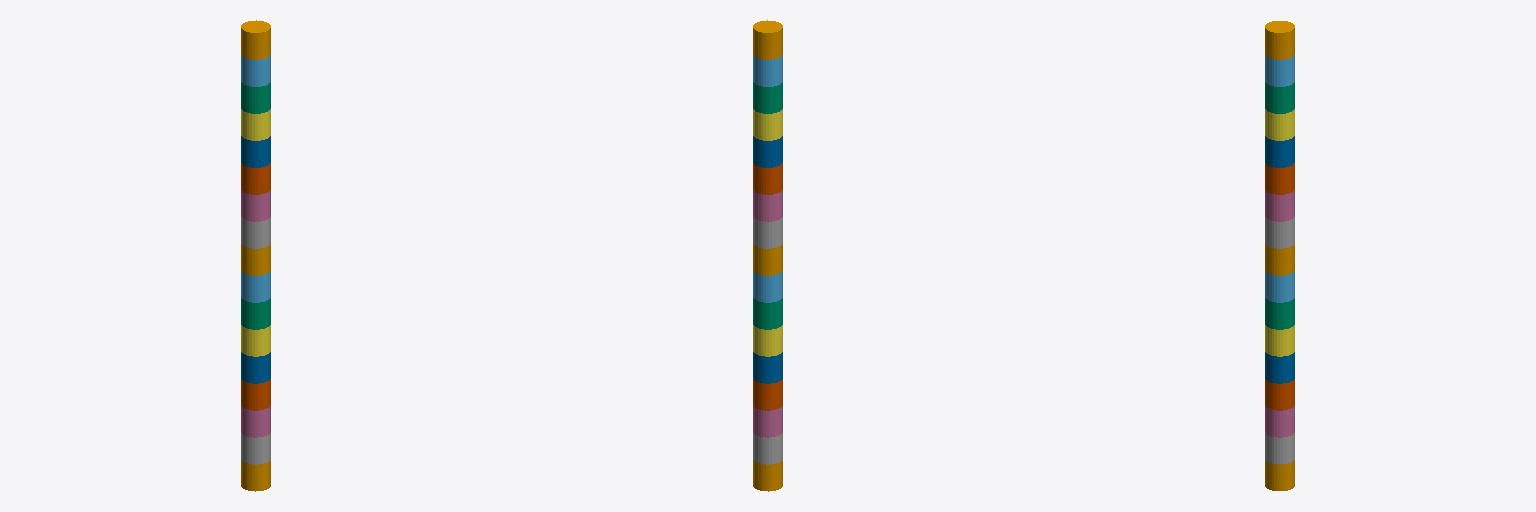
robot.urdf — snake:
<?xml version="1.0" ?>
<!-- =================================================================================== -->
<!-- |    This document was autogenerated by xacro from snake.xacro                    | -->
<!-- |    EDITING THIS FILE BY HAND IS NOT RECOMMENDED                                 | -->
<!-- =================================================================================== -->
<robot name="snake" xmlns:xacro="http://www.ros.org/wiki/xacro">
  <!-- snake properties -->
  <!-- 1=simple_joint -1=springy_joint -->
  <!-- Spring joints are joints with a center springy link-->
  <!-- Spring joint revolute -->
  <!-- Spring joint spherical -->
  <!-- Simple joints are simple, lightly damped and frictioned joints-->
  <!-- -->
  <!-- Simple joint spherical -->
  <link name="module_15">
    <collision>
      <geometry>
        <cylinder length="0.05" radius="0.025"/>
      </geometry>
      <origin rpy="0 0 0" xyz="0 0 -0.025"/>
    </collision>
    <visual>
      <geometry>
        <cylinder length="0.05" radius="0.025"/>
      </geometry>
      <origin rpy="0 0 0" xyz="0 0 -0.025"/>
    </visual>
    <inertial>
      <origin rpy="0 0 0" xyz="0 0 -0.025"/>
      <mass value="0.159"/>
      <inertia ixx="0.00006" ixy="0" ixz="0" iyy="0.00006" iyz="0" izz="0.00006"/>
    </inertial>
  </link>
  <!-- Simple joint -->
  <joint name="joint_15_14.0" type="revolute">
    <limit effort="1000.0" lower="-1.57075" upper="1.57075" velocity="10"/>
    <dynamics damping="0.001" friction="0.2"/>
    <parent link="module_15"/>
    <child link="module_14.0"/>
    <origin xyz="0 0 -0.05"/>
    <axis xyz="0 1 0"/>
  </joint>
  <link name="module_14.0">
    <collision>
      <geometry>
        <cylinder length="0.05" radius="0.025"/>
      </geometry>
      <origin rpy="0 0 0" xyz="0 0 -0.025"/>
    </collision>
    <visual>
      <geometry>
        <cylinder length="0.05" radius="0.025"/>
      </geometry>
      <origin rpy="0 0 0" xyz="0 0 -0.025"/>
    </visual>
    <inertial>
      <origin rpy="0 0 0" xyz="0 0 -0.025"/>
      <mass value="0.159"/>
      <inertia ixx="0.00006" ixy="0" ixz="0" iyy="0.00006" iyz="0" izz="0.00006"/>
    </inertial>
  </link>
  <!-- Simple joint -->
  <joint name="joint_14.0_13.0" type="revolute">
    <limit effort="1000.0" lower="-1.57075" upper="1.57075" velocity="10"/>
    <dynamics damping="0.001" friction="0.2"/>
    <parent link="module_14.0"/>
    <child link="module_13.0"/>
    <origin xyz="0 0 -0.05"/>
    <axis xyz="1 0 0"/>
  </joint>
  <link name="module_13.0">
    <collision>
      <geometry>
        <cylinder length="0.05" radius="0.025"/>
      </geometry>
      <origin rpy="0 0 0" xyz="0 0 -0.025"/>
    </collision>
    <visual>
      <geometry>
        <cylinder length="0.05" radius="0.025"/>
      </geometry>
      <origin rpy="0 0 0" xyz="0 0 -0.025"/>
    </visual>
    <inertial>
      <origin rpy="0 0 0" xyz="0 0 -0.025"/>
      <mass value="0.159"/>
      <inertia ixx="0.00006" ixy="0" ixz="0" iyy="0.00006" iyz="0" izz="0.00006"/>
    </inertial>
  </link>
  <!-- Simple joint -->
  <joint name="joint_13.0_12.0" type="revolute">
    <limit effort="1000.0" lower="-1.57075" upper="1.57075" velocity="10"/>
    <dynamics damping="0.001" friction="0.2"/>
    <parent link="module_13.0"/>
    <child link="module_12.0"/>
    <origin xyz="0 0 -0.05"/>
    <axis xyz="0 1 0"/>
  </joint>
  <link name="module_12.0">
    <collision>
      <geometry>
        <cylinder length="0.05" radius="0.025"/>
      </geometry>
      <origin rpy="0 0 0" xyz="0 0 -0.025"/>
    </collision>
    <visual>
      <geometry>
        <cylinder length="0.05" radius="0.025"/>
      </geometry>
      <origin rpy="0 0 0" xyz="0 0 -0.025"/>
    </visual>
    <inertial>
      <origin rpy="0 0 0" xyz="0 0 -0.025"/>
      <mass value="0.159"/>
      <inertia ixx="0.00006" ixy="0" ixz="0" iyy="0.00006" iyz="0" izz="0.00006"/>
    </inertial>
  </link>
  <!-- Simple joint -->
  <joint name="joint_12.0_11.0" type="revolute">
    <limit effort="1000.0" lower="-1.57075" upper="1.57075" velocity="10"/>
    <dynamics damping="0.001" friction="0.2"/>
    <parent link="module_12.0"/>
    <child link="module_11.0"/>
    <origin xyz="0 0 -0.05"/>
    <axis xyz="1 0 0"/>
  </joint>
  <link name="module_11.0">
    <collision>
      <geometry>
        <cylinder length="0.05" radius="0.025"/>
      </geometry>
      <origin rpy="0 0 0" xyz="0 0 -0.025"/>
    </collision>
    <visual>
      <geometry>
        <cylinder length="0.05" radius="0.025"/>
      </geometry>
      <origin rpy="0 0 0" xyz="0 0 -0.025"/>
    </visual>
    <inertial>
      <origin rpy="0 0 0" xyz="0 0 -0.025"/>
      <mass value="0.159"/>
      <inertia ixx="0.00006" ixy="0" ixz="0" iyy="0.00006" iyz="0" izz="0.00006"/>
    </inertial>
  </link>
  <!-- Simple joint -->
  <joint name="joint_11.0_10.0" type="revolute">
    <limit effort="1000.0" lower="-1.57075" upper="1.57075" velocity="10"/>
    <dynamics damping="0.001" friction="0.2"/>
    <parent link="module_11.0"/>
    <child link="module_10.0"/>
    <origin xyz="0 0 -0.05"/>
    <axis xyz="0 1 0"/>
  </joint>
  <link name="module_10.0">
    <collision>
      <geometry>
        <cylinder length="0.05" radius="0.025"/>
      </geometry>
      <origin rpy="0 0 0" xyz="0 0 -0.025"/>
    </collision>
    <visual>
      <geometry>
        <cylinder length="0.05" radius="0.025"/>
      </geometry>
      <origin rpy="0 0 0" xyz="0 0 -0.025"/>
    </visual>
    <inertial>
      <origin rpy="0 0 0" xyz="0 0 -0.025"/>
      <mass value="0.159"/>
      <inertia ixx="0.00006" ixy="0" ixz="0" iyy="0.00006" iyz="0" izz="0.00006"/>
    </inertial>
  </link>
  <!-- Simple joint -->
  <joint name="joint_10.0_9.0" type="revolute">
    <limit effort="1000.0" lower="-1.57075" upper="1.57075" velocity="10"/>
    <dynamics damping="0.001" friction="0.2"/>
    <parent link="module_10.0"/>
    <child link="module_9.0"/>
    <origin xyz="0 0 -0.05"/>
    <axis xyz="1 0 0"/>
  </joint>
  <link name="module_9.0">
    <collision>
      <geometry>
        <cylinder length="0.05" radius="0.025"/>
      </geometry>
      <origin rpy="0 0 0" xyz="0 0 -0.025"/>
    </collision>
    <visual>
      <geometry>
        <cylinder length="0.05" radius="0.025"/>
      </geometry>
      <origin rpy="0 0 0" xyz="0 0 -0.025"/>
    </visual>
    <inertial>
      <origin rpy="0 0 0" xyz="0 0 -0.025"/>
      <mass value="0.159"/>
      <inertia ixx="0.00006" ixy="0" ixz="0" iyy="0.00006" iyz="0" izz="0.00006"/>
    </inertial>
  </link>
  <!-- Simple joint -->
  <joint name="joint_9.0_8.0" type="revolute">
    <limit effort="1000.0" lower="-1.57075" upper="1.57075" velocity="10"/>
    <dynamics damping="0.001" friction="0.2"/>
    <parent link="module_9.0"/>
    <child link="module_8.0"/>
    <origin xyz="0 0 -0.05"/>
    <axis xyz="0 1 0"/>
  </joint>
  <link name="module_8.0">
    <collision>
      <geometry>
        <cylinder length="0.05" radius="0.025"/>
      </geometry>
      <origin rpy="0 0 0" xyz="0 0 -0.025"/>
    </collision>
    <visual>
      <geometry>
        <cylinder length="0.05" radius="0.025"/>
      </geometry>
      <origin rpy="0 0 0" xyz="0 0 -0.025"/>
    </visual>
    <inertial>
      <origin rpy="0 0 0" xyz="0 0 -0.025"/>
      <mass value="0.159"/>
      <inertia ixx="0.00006" ixy="0" ixz="0" iyy="0.00006" iyz="0" izz="0.00006"/>
    </inertial>
  </link>
  <!-- Simple joint -->
  <joint name="joint_8.0_7.0" type="revolute">
    <limit effort="1000.0" lower="-1.57075" upper="1.57075" velocity="10"/>
    <dynamics damping="0.001" friction="0.2"/>
    <parent link="module_8.0"/>
    <child link="module_7.0"/>
    <origin xyz="0 0 -0.05"/>
    <axis xyz="1 0 0"/>
  </joint>
  <link name="module_7.0">
    <collision>
      <geometry>
        <cylinder length="0.05" radius="0.025"/>
      </geometry>
      <origin rpy="0 0 0" xyz="0 0 -0.025"/>
    </collision>
    <visual>
      <geometry>
        <cylinder length="0.05" radius="0.025"/>
      </geometry>
      <origin rpy="0 0 0" xyz="0 0 -0.025"/>
    </visual>
    <inertial>
      <origin rpy="0 0 0" xyz="0 0 -0.025"/>
      <mass value="0.159"/>
      <inertia ixx="0.00006" ixy="0" ixz="0" iyy="0.00006" iyz="0" izz="0.00006"/>
    </inertial>
  </link>
  <!-- Simple joint -->
  <joint name="joint_7.0_6.0" type="revolute">
    <limit effort="1000.0" lower="-1.57075" upper="1.57075" velocity="10"/>
    <dynamics damping="0.001" friction="0.2"/>
    <parent link="module_7.0"/>
    <child link="module_6.0"/>
    <origin xyz="0 0 -0.05"/>
    <axis xyz="0 1 0"/>
  </joint>
  <link name="module_6.0">
    <collision>
      <geometry>
        <cylinder length="0.05" radius="0.025"/>
      </geometry>
      <origin rpy="0 0 0" xyz="0 0 -0.025"/>
    </collision>
    <visual>
      <geometry>
        <cylinder length="0.05" radius="0.025"/>
      </geometry>
      <origin rpy="0 0 0" xyz="0 0 -0.025"/>
    </visual>
    <inertial>
      <origin rpy="0 0 0" xyz="0 0 -0.025"/>
      <mass value="0.159"/>
      <inertia ixx="0.00006" ixy="0" ixz="0" iyy="0.00006" iyz="0" izz="0.00006"/>
    </inertial>
  </link>
  <!-- Simple joint -->
  <joint name="joint_6.0_5.0" type="revolute">
    <limit effort="1000.0" lower="-1.57075" upper="1.57075" velocity="10"/>
    <dynamics damping="0.001" friction="0.2"/>
    <parent link="module_6.0"/>
    <child link="module_5.0"/>
    <origin xyz="0 0 -0.05"/>
    <axis xyz="1 0 0"/>
  </joint>
  <link name="module_5.0">
    <collision>
      <geometry>
        <cylinder length="0.05" radius="0.025"/>
      </geometry>
      <origin rpy="0 0 0" xyz="0 0 -0.025"/>
    </collision>
    <visual>
      <geometry>
        <cylinder length="0.05" radius="0.025"/>
      </geometry>
      <origin rpy="0 0 0" xyz="0 0 -0.025"/>
    </visual>
    <inertial>
      <origin rpy="0 0 0" xyz="0 0 -0.025"/>
      <mass value="0.159"/>
      <inertia ixx="0.00006" ixy="0" ixz="0" iyy="0.00006" iyz="0" izz="0.00006"/>
    </inertial>
  </link>
  <!-- Simple joint -->
  <joint name="joint_5.0_4.0" type="revolute">
    <limit effort="1000.0" lower="-1.57075" upper="1.57075" velocity="10"/>
    <dynamics damping="0.001" friction="0.2"/>
    <parent link="module_5.0"/>
    <child link="module_4.0"/>
    <origin xyz="0 0 -0.05"/>
    <axis xyz="0 1 0"/>
  </joint>
  <link name="module_4.0">
    <collision>
      <geometry>
        <cylinder length="0.05" radius="0.025"/>
      </geometry>
      <origin rpy="0 0 0" xyz="0 0 -0.025"/>
    </collision>
    <visual>
      <geometry>
        <cylinder length="0.05" radius="0.025"/>
      </geometry>
      <origin rpy="0 0 0" xyz="0 0 -0.025"/>
    </visual>
    <inertial>
      <origin rpy="0 0 0" xyz="0 0 -0.025"/>
      <mass value="0.159"/>
      <inertia ixx="0.00006" ixy="0" ixz="0" iyy="0.00006" iyz="0" izz="0.00006"/>
    </inertial>
  </link>
  <!-- Simple joint -->
  <joint name="joint_4.0_3.0" type="revolute">
    <limit effort="1000.0" lower="-1.57075" upper="1.57075" velocity="10"/>
    <dynamics damping="0.001" friction="0.2"/>
    <parent link="module_4.0"/>
    <child link="module_3.0"/>
    <origin xyz="0 0 -0.05"/>
    <axis xyz="1 0 0"/>
  </joint>
  <link name="module_3.0">
    <collision>
      <geometry>
        <cylinder length="0.05" radius="0.025"/>
      </geometry>
      <origin rpy="0 0 0" xyz="0 0 -0.025"/>
    </collision>
    <visual>
      <geometry>
        <cylinder length="0.05" radius="0.025"/>
      </geometry>
      <origin rpy="0 0 0" xyz="0 0 -0.025"/>
    </visual>
    <inertial>
      <origin rpy="0 0 0" xyz="0 0 -0.025"/>
      <mass value="0.159"/>
      <inertia ixx="0.00006" ixy="0" ixz="0" iyy="0.00006" iyz="0" izz="0.00006"/>
    </inertial>
  </link>
  <!-- Simple joint -->
  <joint name="joint_3.0_2.0" type="revolute">
    <limit effort="1000.0" lower="-1.57075" upper="1.57075" velocity="10"/>
    <dynamics damping="0.001" friction="0.2"/>
    <parent link="module_3.0"/>
    <child link="module_2.0"/>
    <origin xyz="0 0 -0.05"/>
    <axis xyz="0 1 0"/>
  </joint>
  <link name="module_2.0">
    <collision>
      <geometry>
        <cylinder length="0.05" radius="0.025"/>
      </geometry>
      <origin rpy="0 0 0" xyz="0 0 -0.025"/>
    </collision>
    <visual>
      <geometry>
        <cylinder length="0.05" radius="0.025"/>
      </geometry>
      <origin rpy="0 0 0" xyz="0 0 -0.025"/>
    </visual>
    <inertial>
      <origin rpy="0 0 0" xyz="0 0 -0.025"/>
      <mass value="0.159"/>
      <inertia ixx="0.00006" ixy="0" ixz="0" iyy="0.00006" iyz="0" izz="0.00006"/>
    </inertial>
  </link>
  <!-- Simple joint -->
  <joint name="joint_2.0_1.0" type="revolute">
    <limit effort="1000.0" lower="-1.57075" upper="1.57075" velocity="10"/>
    <dynamics damping="0.001" friction="0.2"/>
    <parent link="module_2.0"/>
    <child link="module_1.0"/>
    <origin xyz="0 0 -0.05"/>
    <axis xyz="1 0 0"/>
  </joint>
  <link name="module_1.0">
    <collision>
      <geometry>
        <cylinder length="0.05" radius="0.025"/>
      </geometry>
      <origin rpy="0 0 0" xyz="0 0 -0.025"/>
    </collision>
    <visual>
      <geometry>
        <cylinder length="0.05" radius="0.025"/>
      </geometry>
      <origin rpy="0 0 0" xyz="0 0 -0.025"/>
    </visual>
    <inertial>
      <origin rpy="0 0 0" xyz="0 0 -0.025"/>
      <mass value="0.159"/>
      <inertia ixx="0.00006" ixy="0" ixz="0" iyy="0.00006" iyz="0" izz="0.00006"/>
    </inertial>
  </link>
  <!-- Simple joint -->
  <joint name="joint_1.0_0.0" type="revolute">
    <limit effort="1000.0" lower="-1.57075" upper="1.57075" velocity="10"/>
    <dynamics damping="0.001" friction="0.2"/>
    <parent link="module_1.0"/>
    <child link="module_0.0"/>
    <origin xyz="0 0 -0.05"/>
    <axis xyz="0 1 0"/>
  </joint>
  <link name="module_0.0">
    <collision>
      <geometry>
        <cylinder length="0.05" radius="0.025"/>
      </geometry>
      <origin rpy="0 0 0" xyz="0 0 -0.025"/>
    </collision>
    <visual>
      <geometry>
        <cylinder length="0.05" radius="0.025"/>
      </geometry>
      <origin rpy="0 0 0" xyz="0 0 -0.025"/>
    </visual>
    <inertial>
      <origin rpy="0 0 0" xyz="0 0 -0.025"/>
      <mass value="0.159"/>
      <inertia ixx="0.00006" ixy="0" ixz="0" iyy="0.00006" iyz="0" izz="0.00006"/>
    </inertial>
  </link>
  <!-- Simple joint -->
  <joint name="joint_0.0_-1.0" type="revolute">
    <limit effort="1000.0" lower="-1.57075" upper="1.57075" velocity="10"/>
    <dynamics damping="0.001" friction="0.2"/>
    <parent link="module_0.0"/>
    <child link="module_-1.0"/>
    <origin xyz="0 0 -0.05"/>
    <axis xyz="1 0 0"/>
  </joint>
  <link name="module_-1.0">
    <collision>
      <geometry>
        <cylinder length="0.05" radius="0.025"/>
      </geometry>
      <origin rpy="0 0 0" xyz="0 0 -0.025"/>
    </collision>
    <visual>
      <geometry>
        <cylinder length="0.05" radius="0.025"/>
      </geometry>
      <origin rpy="0 0 0" xyz="0 0 -0.025"/>
    </visual>
    <inertial>
      <origin rpy="0 0 0" xyz="0 0 -0.025"/>
      <mass value="0.159"/>
      <inertia ixx="0.00006" ixy="0" ixz="0" iyy="0.00006" iyz="0" izz="0.00006"/>
    </inertial>
  </link>
</robot>

--- Render facts (derived) ---
3 views of the same robot in one strip: view 1: azimuth 30°, elevation 25°; view 2: azimuth 150°, elevation 25°; view 3: azimuth 270°, elevation 25° (orthographic).
Robot: snake — 17 links, 16 joints (16 revolute); root link module_15; default pose: every joint at zero.
Visible links, largest first — view 1: module_15, module_14.0, module_12.0, module_11.0, module_10.0, module_9.0, module_7.0, module_6.0, module_5.0, module_0.0, module_3.0, module_2.0 (+5 smaller); view 2: module_15, module_14.0, module_12.0, module_11.0, module_10.0, module_9.0, module_7.0, module_6.0, module_5.0, module_0.0, module_3.0, module_2.0 (+5 smaller); view 3: module_15, module_14.0, module_11.0, module_10.0, module_7.0, module_6.0, module_5.0, module_3.0, module_13.0, module_12.0, module_9.0, module_8.0 (+5 smaller).
Boxes of the visible links, left/top/right/bottom form: module_15: left=241, top=20, right=270, bottom=59; module_14.0: left=241, top=55, right=270, bottom=86; module_12.0: left=241, top=109, right=270, bottom=140; module_11.0: left=241, top=136, right=270, bottom=167; module_10.0: left=241, top=163, right=270, bottom=194; module_9.0: left=241, top=190, right=270, bottom=221; module_7.0: left=241, top=244, right=270, bottom=275; module_6.0: left=241, top=271, right=270, bottom=302; module_5.0: left=241, top=298, right=270, bottom=329; module_0.0: left=241, top=433, right=270, bottom=464; module_3.0: left=241, top=352, right=270, bottom=383; module_2.0: left=241, top=379, right=270, bottom=410; module_15: left=753, top=20, right=782, bottom=59; module_14.0: left=753, top=55, right=782, bottom=86; module_12.0: left=753, top=109, right=782, bottom=140; module_11.0: left=753, top=136, right=782, bottom=167; module_10.0: left=753, top=163, right=782, bottom=194; module_9.0: left=753, top=190, right=782, bottom=221; module_7.0: left=753, top=244, right=782, bottom=275; module_6.0: left=753, top=271, right=782, bottom=302; module_5.0: left=753, top=298, right=782, bottom=329; module_0.0: left=753, top=433, right=782, bottom=464; module_3.0: left=753, top=352, right=782, bottom=383; module_2.0: left=753, top=379, right=782, bottom=410; module_15: left=1265, top=21, right=1294, bottom=59; module_14.0: left=1265, top=55, right=1294, bottom=86; module_11.0: left=1265, top=136, right=1294, bottom=167; module_10.0: left=1265, top=163, right=1294, bottom=194; module_7.0: left=1265, top=244, right=1294, bottom=275; module_6.0: left=1265, top=271, right=1294, bottom=302; module_5.0: left=1265, top=298, right=1294, bottom=329; module_3.0: left=1265, top=352, right=1294, bottom=383; module_13.0: left=1265, top=82, right=1294, bottom=113; module_12.0: left=1265, top=109, right=1294, bottom=140; module_9.0: left=1265, top=190, right=1294, bottom=221; module_8.0: left=1265, top=217, right=1294, bottom=248.
Size in the robot's own frame: 0.05 by 0.05 by 0.85 metres.
Geometry: primitives only (box / cylinder / sphere), no mesh files.